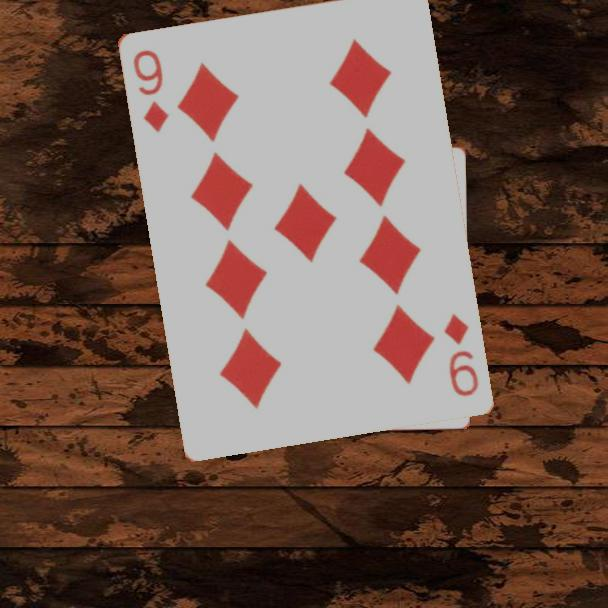d09: (129, 45, 172, 134), (440, 309, 481, 399)
